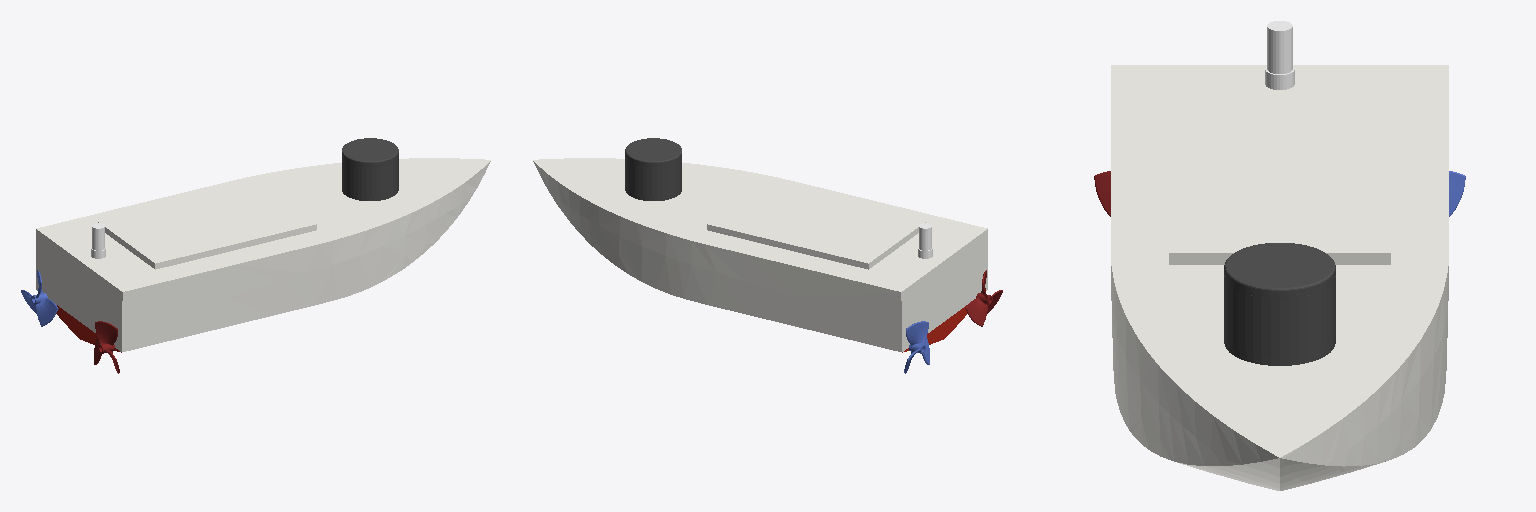
URDF robot description (boat):
<?xml version="1.0000" encoding="utf-8"?>
<!-- This URDF was automatically created by SolidWorks to URDF Exporter! Originally created by [author] ([email redacted]) 
     Commit Version: 1.6000.0-4-g7f85cfe  Build Version: [phone redacted]
     For more information, please see http://wiki.ros.org/sw_urdf_exporter -->
<robot name="boat">

  <link name="base_link">
    <inertial>
      <origin xyz="0.2840 0 -0.1320" rpy="0 0 0" />
      <mass value="3.1700" />
      <inertia ixx="0.0123" ixy="-0.0000" ixz="-0.0003" iyy="0.0892" iyz="0.0000" izz="0.1011" />
    </inertial>
    <visual>
      <origin xyz="0 0 0" rpy="0 0 0" />
      <geometry>
        <mesh filename="./meshes/base_link.STL" />
      </geometry>
      <material name="">
        <color rgba="0.7686 0.2078 0.1529 1" />
      </material>
    </visual>
    <collision>
      <origin xyz="0 0 0" rpy="0 0 0" />
      <geometry>
        <mesh filename="./meshes/base_link.STL" />
      </geometry>
    </collision>
  </link>

  <link name="up_boat_Link">
    <inertial>
      <origin xyz="0.3755 -0.0168 -0.0048" rpy="0 0 0" />
      <mass value="0.5676" />
      <inertia ixx="0.0053" ixy="0.0033" ixz="-0.0031" iyy="0.0391" iyz="-0.0007" izz="0.0452" />
    </inertial>
    <visual>
      <origin xyz="0 0 0" rpy="0 0 0" />
      <geometry>
        <mesh filename="./meshes/up_boat_Link.STL" />
      </geometry>
      <material name="">
        <color rgba="0.9843 0.9804 0.9608 1" />
      </material>
    </visual>
    <collision>
      <origin xyz="0 0 0" rpy="0 0 0" />
      <geometry>
        <mesh filename="./meshes/up_boat_Link.STL" />
      </geometry>
    </collision>
  </link>

  <joint name="up_boat" type="fixed">
    <origin xyz="0 0 0" rpy="0 0 0" />
    <parent link="base_link" />
    <child link="up_boat_Link" />
    <axis xyz="0 0 0" />
  </joint>

  <link name="lidar_Link">
    <inertial>
      <origin xyz="0 0 0.0389" rpy="0 0 0" />
      <mass value="0.6363" />
      <inertia ixx="0.0006" ixy="0" ixz="0" iyy="0.0006" iyz="0" izz="0.0008" />
    </inertial>
    <visual>
      <origin xyz="0 0 0" rpy="0 0 0" />
      <geometry>
        <mesh filename="./meshes/lidar_Link.STL" />
      </geometry>
      <material name="">
        <color rgba="0.3490 0.3490 0.3490 1" />
      </material>
    </visual>
    <collision>
      <origin xyz="0 0 0" rpy="0 0 0" />
      <geometry>
        <mesh filename="./meshes/lidar_Link.STL" />
      </geometry>
    </collision>
  </link>

  <joint name="lidar" type="continuous">
    <origin xyz="0.6000 0 0" rpy="0 0 0" />
    <parent link="up_boat_Link" />
    <child link="lidar_Link" />
    <axis xyz="0 0 1" />
  </joint>
  
  <link name="antenna_Link">
    <inertial>
      <origin xyz="0 0 0.0275" rpy="0 0 0" />
      <mass value="0.0273" />
      <inertia ixx="0.0000" ixy="0" ixz="0" iyy="0.0000" iyz="0" izz="0.0000" />
    </inertial>
    <visual>
      <origin xyz="0 0 0" rpy="0 0 0" />
      <geometry>
        <mesh filename="./meshes/antenna_Link.STL" />
      </geometry>
      <material name="">
        <color rgba="1 1 1 1" />
      </material>
    </visual>
    <collision>
      <origin xyz="0 0 0" rpy="0 0 0" />
      <geometry>
        <mesh filename="./meshes/antenna_Link.STL" />
      </geometry>
    </collision>
  </link>

  <joint name="antenna" type="continuous">
    <origin xyz="0.0400 0 0" rpy="0 0 0" />
    <parent link="up_boat_Link" />
    <child link="antenna_Link" />
    <axis xyz="0 0 1" />
  </joint>

  <link name="left_propeller_Link">
    <inertial>
      <origin xyz="0.0041 -0.0000 -0.0000" rpy="0 0 0" />
      <mass value="0.0206" />
      <inertia ixx="0.0000" ixy="0" ixz="0" iyy="0.0000" iyz="0" izz="0.0000" />
    </inertial>
    <visual>
      <origin xyz="0 0 0" rpy="0 0 0" />
      <geometry>
        <mesh filename="./meshes/left_propeller_Link.STL" />
      </geometry>
      <material name="">
        <color rgba="0.3804 0.4784 0.7882 1" />
      </material>
    </visual>
    <collision>
      <origin xyz="0 0 0" rpy="0 0 0" />
      <geometry>
        <mesh filename="./meshes/left_propeller_Link.STL" />
      </geometry>
    </collision>
  </link>

  <joint name="left_propeller" type="continuous">
    <origin xyz="-0.0167 0.1200 -0.1210" rpy="0 0 0" />
    <parent link="base_link" />
    <child link="left_propeller_Link" />
    <axis xyz="-1 0 0" />
  </joint>

  <link name="right_propeller_Link">
    <inertial>
      <origin xyz="0.0041 -0.0000 0.0000" rpy="0 0 0" />
      <mass value="0.0206" />
      <inertia ixx="0.0000" ixy="0" ixz="0" iyy="0.0000" iyz="0" izz="0.0000" />
    </inertial>
    <visual>
      <origin xyz="0 0 0" rpy="0 0 0" />
      <geometry>
        <mesh filename="./meshes/right_propeller_Link.STL" />
      </geometry>
      <material name="">
        <color rgba="0.5490 0.1804 0.1804 1" />
      </material>
    </visual>
    <collision>
      <origin xyz="0 0 0" rpy="0 0 0" />
      <geometry>
        <mesh filename="./meshes/right_propeller_Link.STL" />
      </geometry>
    </collision>
  </link>
  
  <joint name="right_propeller" type="continuous">
    <origin xyz="-0.0167 -0.1200 -0.1210" rpy="0 0 0" />
    <parent link="base_link" />
    <child link="right_propeller_Link" />
    <axis xyz="-1 0 0" />
  </joint>
</robot>

--- Facts derived from the render (not from the file) ---
3 views of the same robot in one strip: view 1: azimuth 30°, elevation 25°; view 2: azimuth 150°, elevation 25°; view 3: azimuth 270°, elevation 25° (orthographic).
Model boat with 6 links and 5 joints (4 continuous, 1 fixed), rooted at base_link, posed all joints at 0.
Links seen in each view (by area): view 1: up_boat_Link, lidar_Link, right_propeller_Link, left_propeller_Link, base_link; view 2: up_boat_Link, lidar_Link, left_propeller_Link, right_propeller_Link, base_link; view 3: up_boat_Link, lidar_Link, antenna_Link, left_propeller_Link, right_propeller_Link.
Link boxes in pixels (x1,y1,x2,y2): up_boat_Link: (36, 158, 490, 351); lidar_Link: (342, 138, 398, 200); right_propeller_Link: (94, 321, 119, 373); left_propeller_Link: (21, 270, 58, 326); base_link: (56, 305, 121, 352); up_boat_Link: (533, 158, 987, 351); lidar_Link: (625, 138, 681, 200); left_propeller_Link: (904, 321, 929, 373); right_propeller_Link: (965, 270, 1002, 326); base_link: (902, 305, 967, 352); up_boat_Link: (1111, 65, 1448, 490); lidar_Link: (1224, 243, 1335, 365); antenna_Link: (1265, 21, 1294, 89); left_propeller_Link: (1449, 171, 1465, 216); right_propeller_Link: (1094, 171, 1110, 216).
Bounding box of the posed robot: 0.8751 × 0.3401 × 0.2415 m (x, y, z).
6 mesh visuals loaded from 6 distinct referenced files (6 binary STL).
